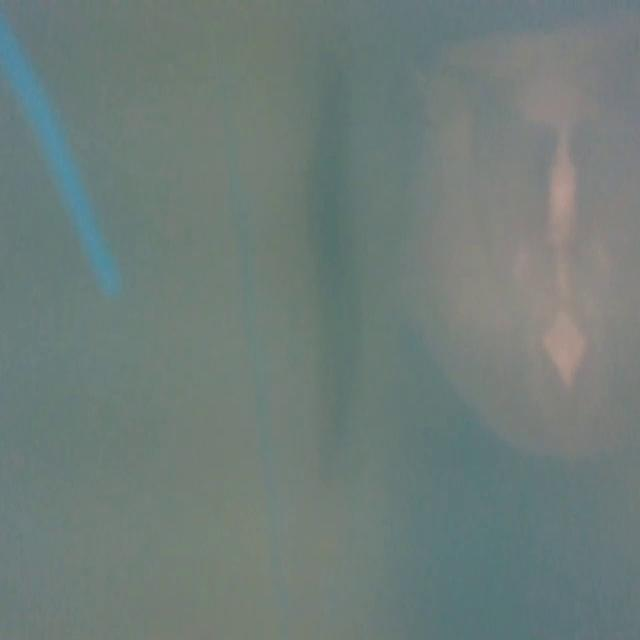plastic bags: (404, 41, 640, 458)
